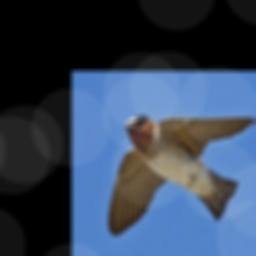Swallow: (106, 114, 256, 238)
